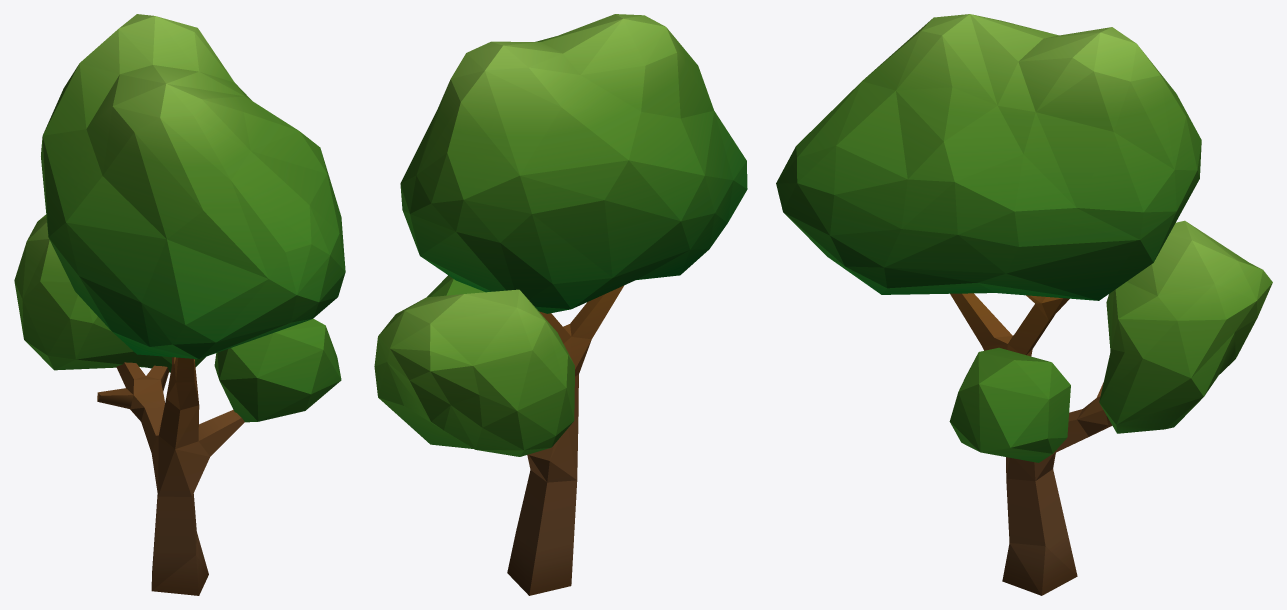
File: Tree_01.fbx
The picture shows the model from 3 angles, left to right: view 1: azimuth 30°, elevation 25°; view 2: azimuth 150°, elevation 25°; view 3: azimuth 270°, elevation 25°; orthographic projection. The views are drawn at different scales.
Parts seen in each view (by area): view 1: Tree_01_LOD0; view 2: Tree_01_LOD0; view 3: Tree_01_LOD0.
Part boxes in pixels (x1=…): Tree_01_LOD0: x1=14, y1=14, x2=345, y2=595; Tree_01_LOD0: x1=374, y1=14, x2=747, y2=595; Tree_01_LOD0: x1=776, y1=14, x2=1272, y2=595.
Size of what is drawn, in the model's own units: 276 by 511 by 417.
